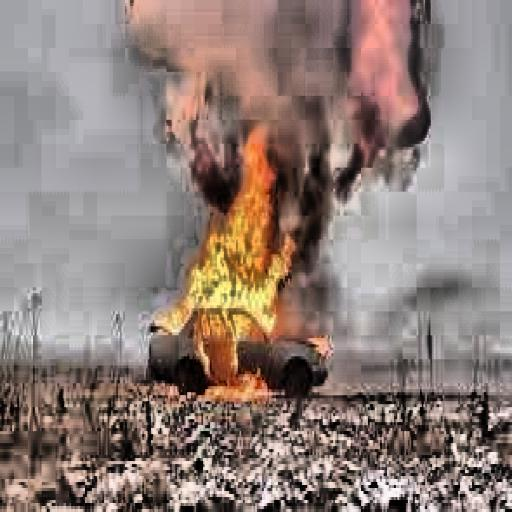fire: (149, 126, 328, 386)
